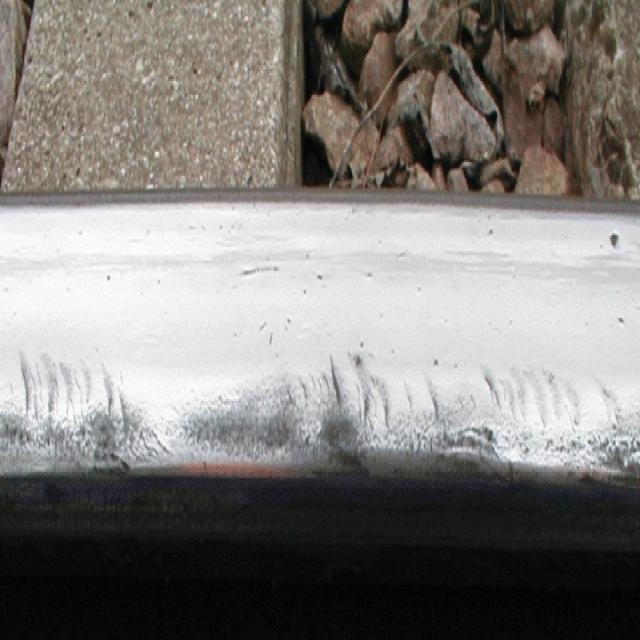broken_rail_medium: (610, 229, 622, 253)
